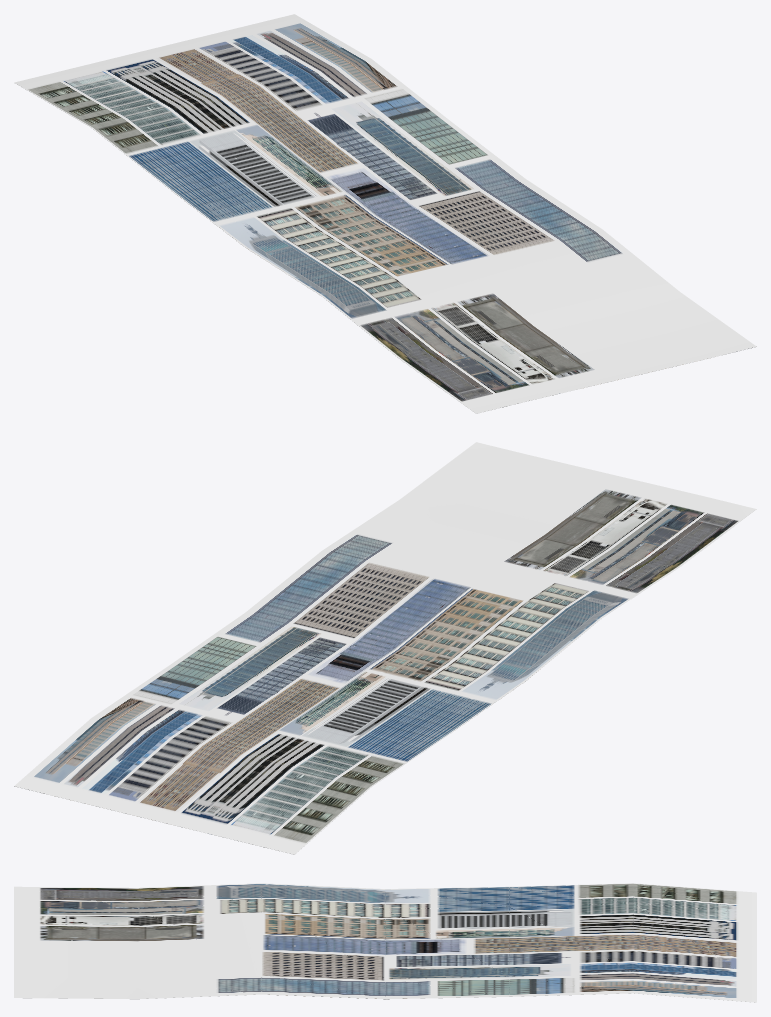
The picture shows the model from 3 angles, top to bottom: view 1: azimuth 30°, elevation 25°; view 2: azimuth 150°, elevation 25°; view 3: azimuth 270°, elevation 25°; orthographic projection. The views are drawn at different scales.
Parts seen in each view (by area): view 1: Paper_B; view 2: Paper_B; view 3: Paper_B.
Part boxes in pixels (<box>): Paper_B: <box>14,14,756,413</box>; Paper_B: <box>14,442,756,854</box>; Paper_B: <box>14,883,756,1002</box>.
Bounding box in the file's own units: 13.24 × 0.525 × 37.77.
